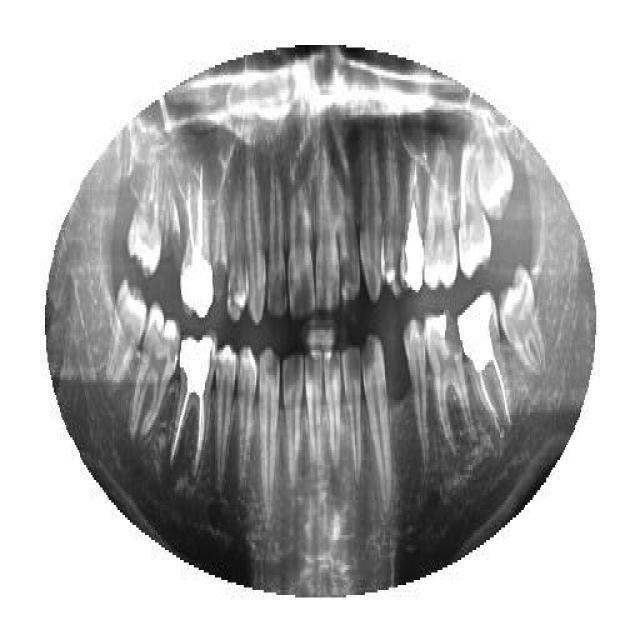Cavity: (424, 308, 481, 450), (214, 200, 228, 305)
Impacted Tooth: (472, 120, 518, 220)
Implant: (458, 287, 512, 435), (172, 332, 216, 488), (180, 162, 214, 322), (400, 153, 426, 295)
